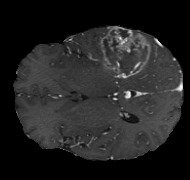Edema: (87, 30, 163, 77)
EnhancingTumors: (97, 27, 149, 71)
Necrosis: (98, 29, 149, 72)
